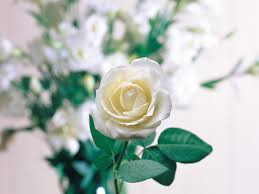flower: (78, 38, 191, 156)
